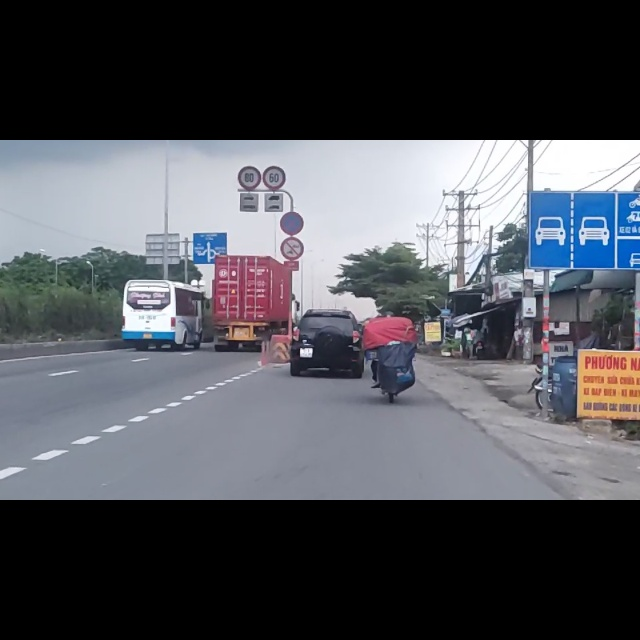bien_cam: (530, 91, 640, 230), (279, 126, 305, 168), (279, 171, 305, 213), (263, 45, 287, 89), (237, 45, 261, 89)
